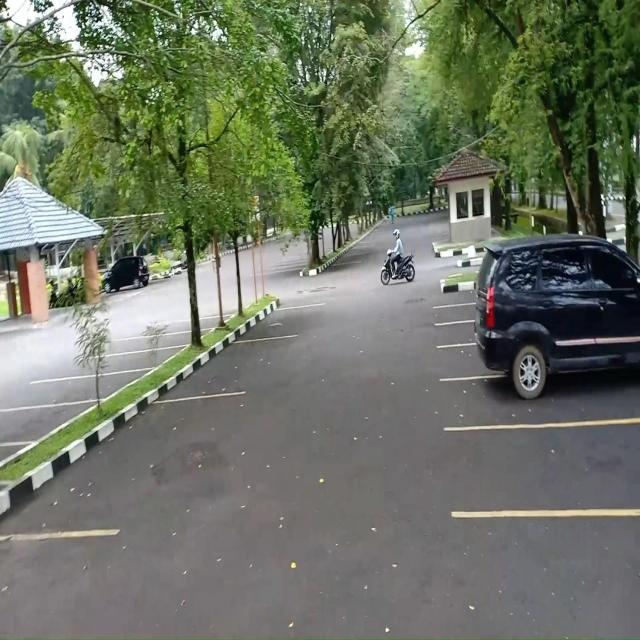empty: (106, 394, 230, 536), (467, 424, 640, 519), (216, 337, 293, 400), (0, 400, 86, 448), (52, 370, 126, 404), (250, 304, 309, 340), (109, 348, 174, 373), (145, 331, 191, 350)
occupied: (473, 320, 640, 427)
